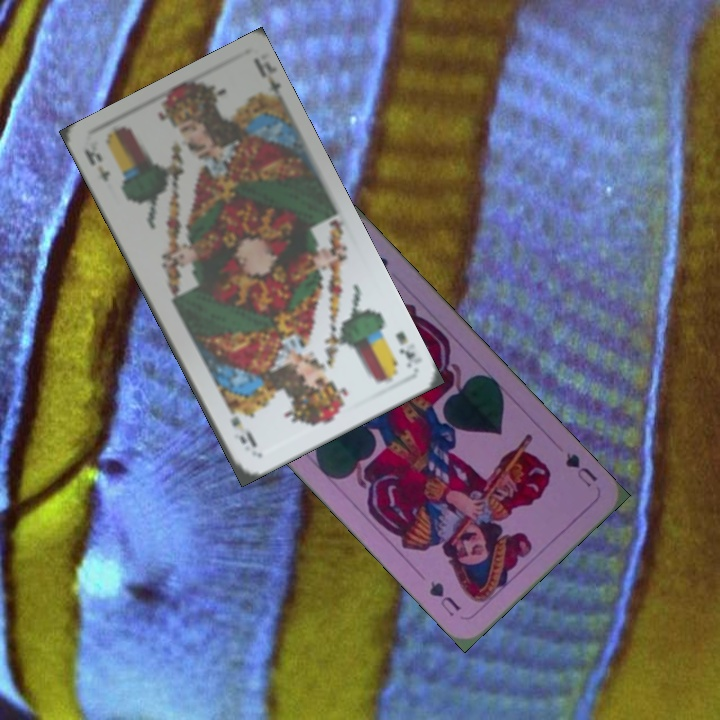EK: (391, 327, 425, 371), (80, 145, 113, 185)
GU: (561, 448, 600, 490)
